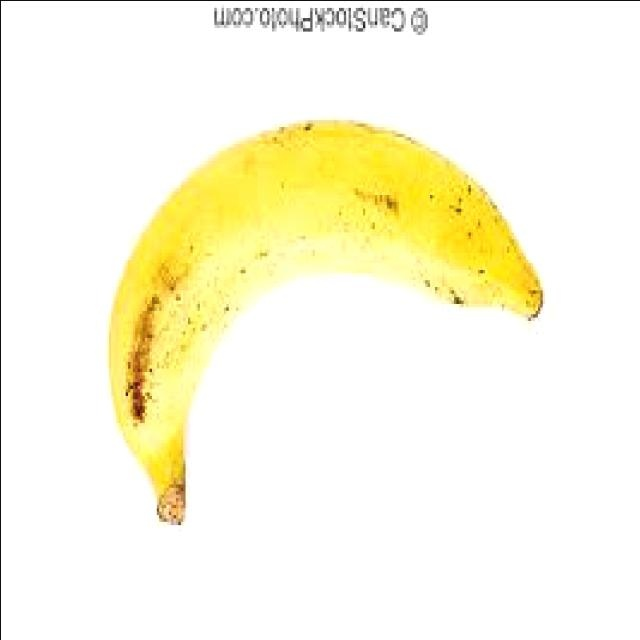agrume: (103, 114, 541, 526)
